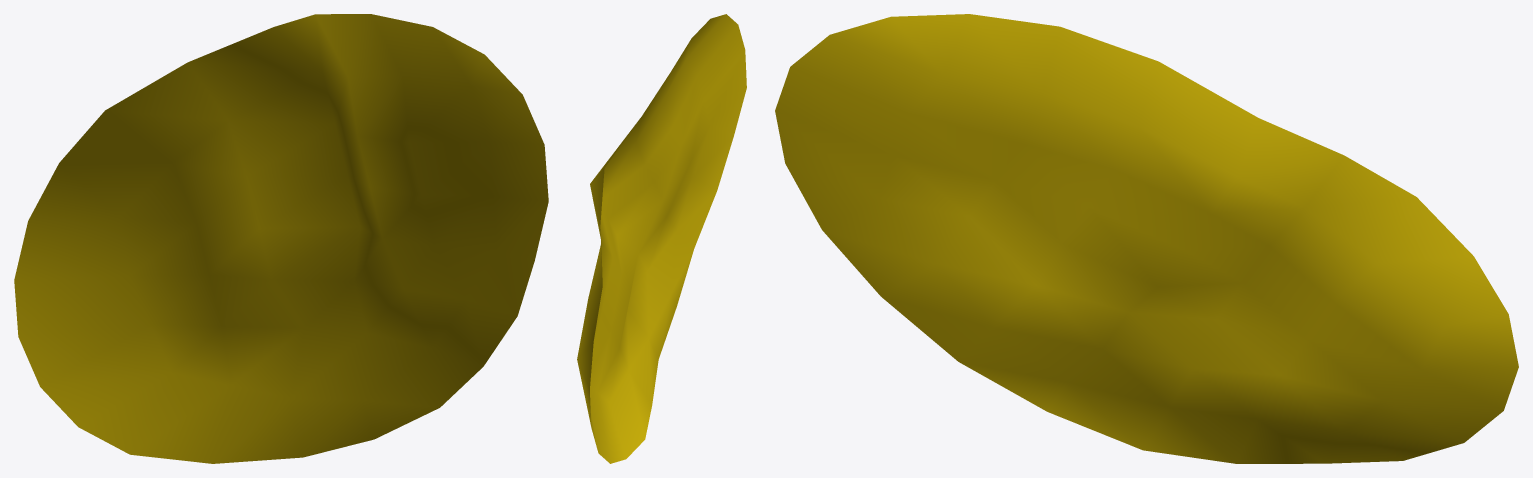
Rendered from Leaf.gltf.
3 renders of one model, left to right at view 1: azimuth 30°, elevation 25°; view 2: azimuth 150°, elevation 25°; view 3: azimuth 270°, elevation 25°, orthographic. The views are drawn at different scales.
Visible parts, largest first — view 1: pasted__pDisc75; view 2: pasted__pDisc75; view 3: pasted__pDisc75.
Part boxes in pixels (left/top/right/bottom): pasted__pDisc75: left=14, top=14, right=548, bottom=463; pasted__pDisc75: left=577, top=14, right=746, bottom=463; pasted__pDisc75: left=775, top=14, right=1518, bottom=463.
Bounding box in the file's own units: 0.00397 × 0.0129 × 0.0174.
